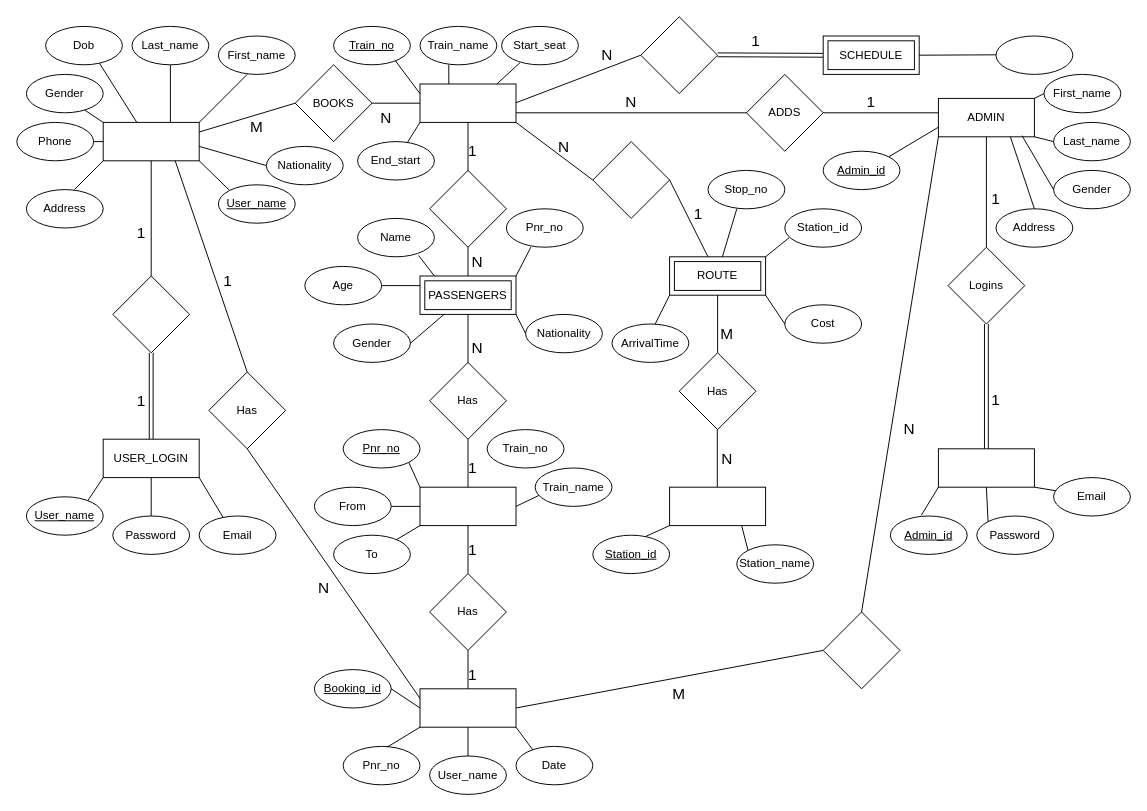
The diagram is 1147 pixels wide and 811 high, and some of its shapes have lost their labels. The centre of each missing label's shape, as x and y in pixels:
"ADMINS_LOGIN" goes at [985,467].
"BOOKINGS" goes at [467,707].
"Login" goes at [151,314].
"PNR_STATUS" goes at [467,506].
"STATIONS" goes at [717,506].
"TRAINS" goes at [467,102].
"Travels" goes at [631,179].
"Travels in" goes at [467,208].
"Travels on" goes at [679,55].
"USER" goes at [150,141].
"Views" goes at [861,650].
"Week_days" goes at [1034,54].
